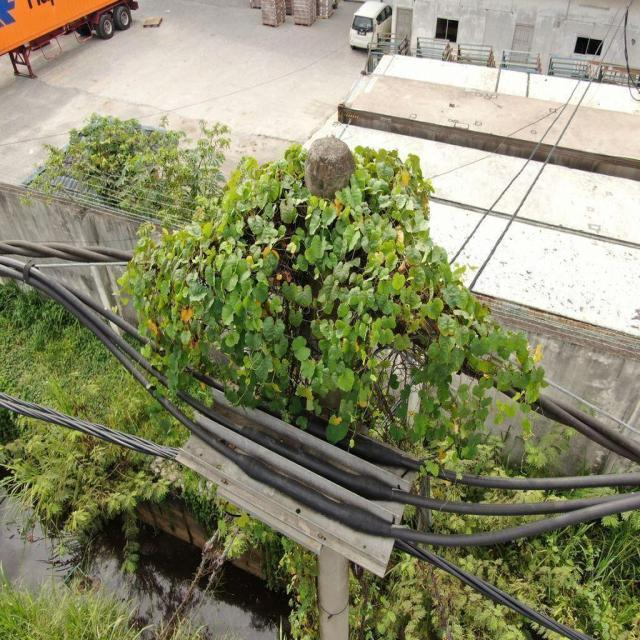critical vegetation: (105, 125, 565, 551)
